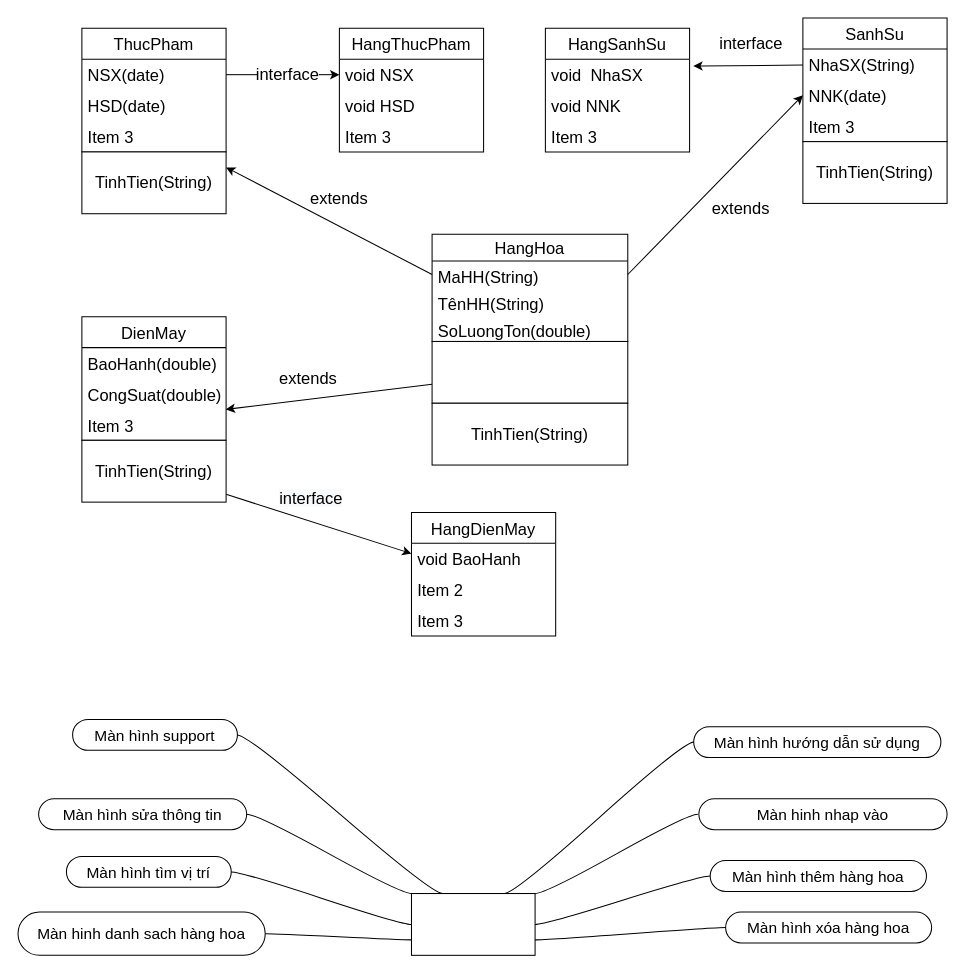
Some shapes in this 965 by 973 pixel diagram are drawn without their labels. The centre of each missing label's shape, as x and y in pixels:
"DonGia(double)" belongs at point (529, 371).
"screenshorts" belongs at point (472, 923).
